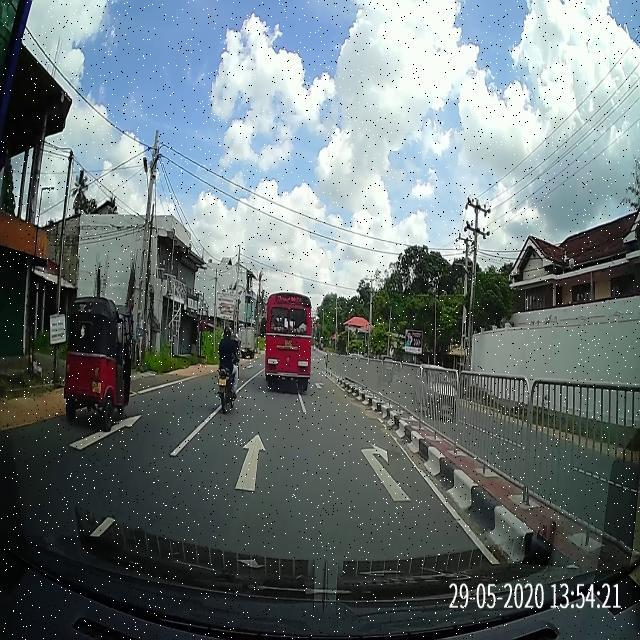forward: (135, 415, 323, 520)
